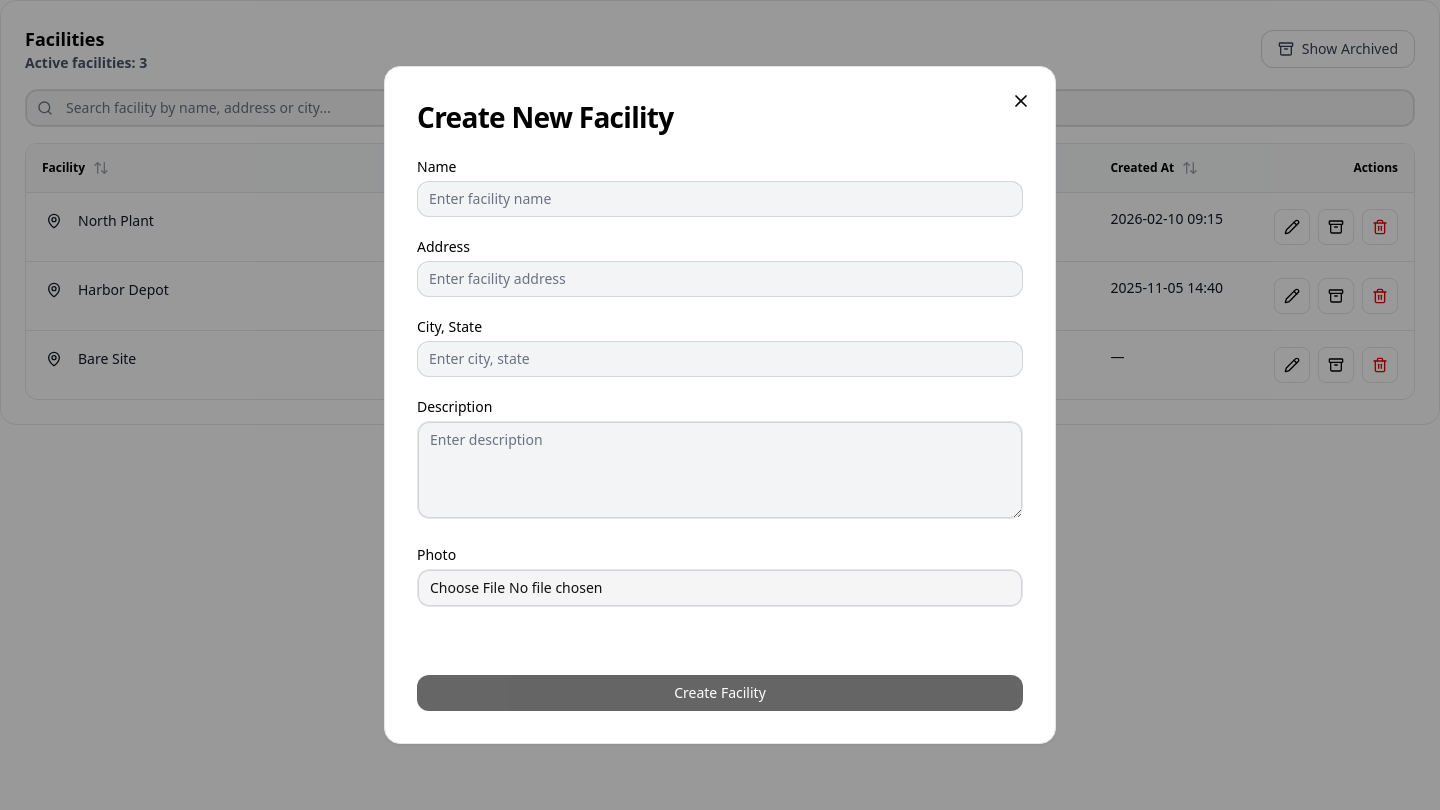
Test case: FacilitiesContent › create › closes the dialog from the close button
Click the button named "Close" at (1021, 101), box x1=1003 y1=83 x2=1039 y2=119
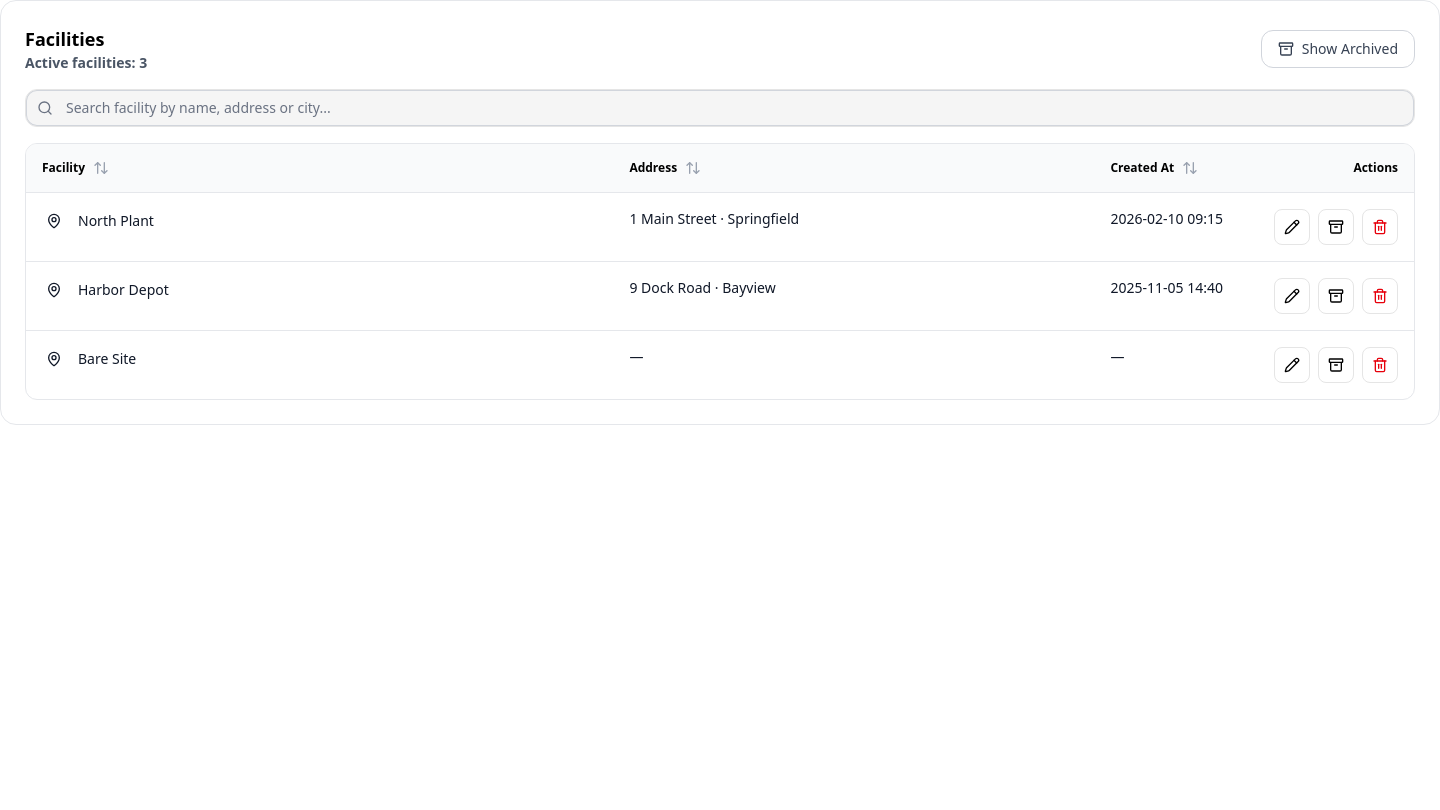
Expected: the heading "Create New Facility" is gone
